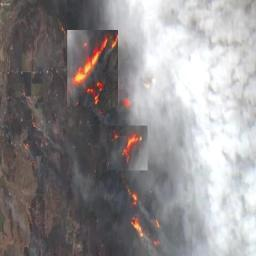Medium fire: (71, 33, 119, 109)
Small fire: (120, 129, 148, 163), (128, 216, 153, 242), (129, 187, 141, 208)
